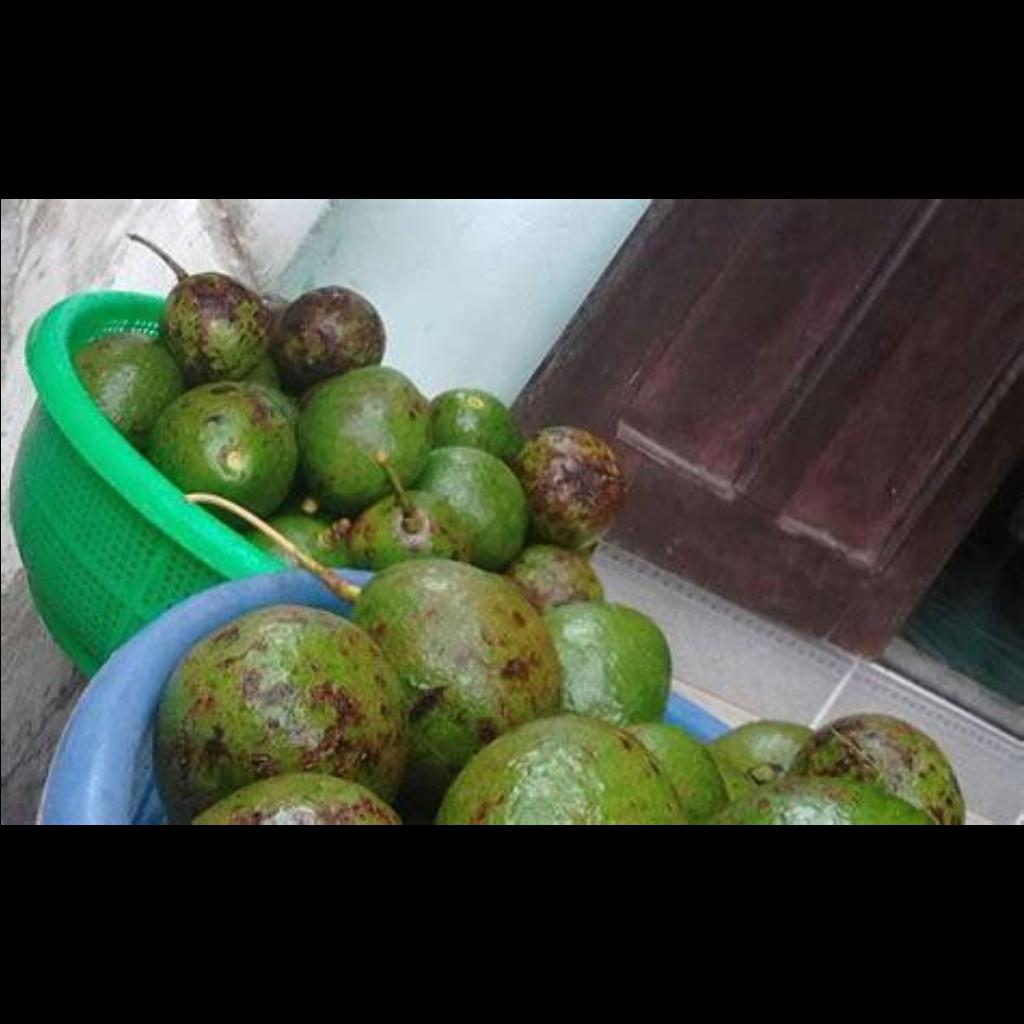Anthracnose: (191, 597, 459, 813), (138, 261, 394, 395), (497, 418, 631, 542)
